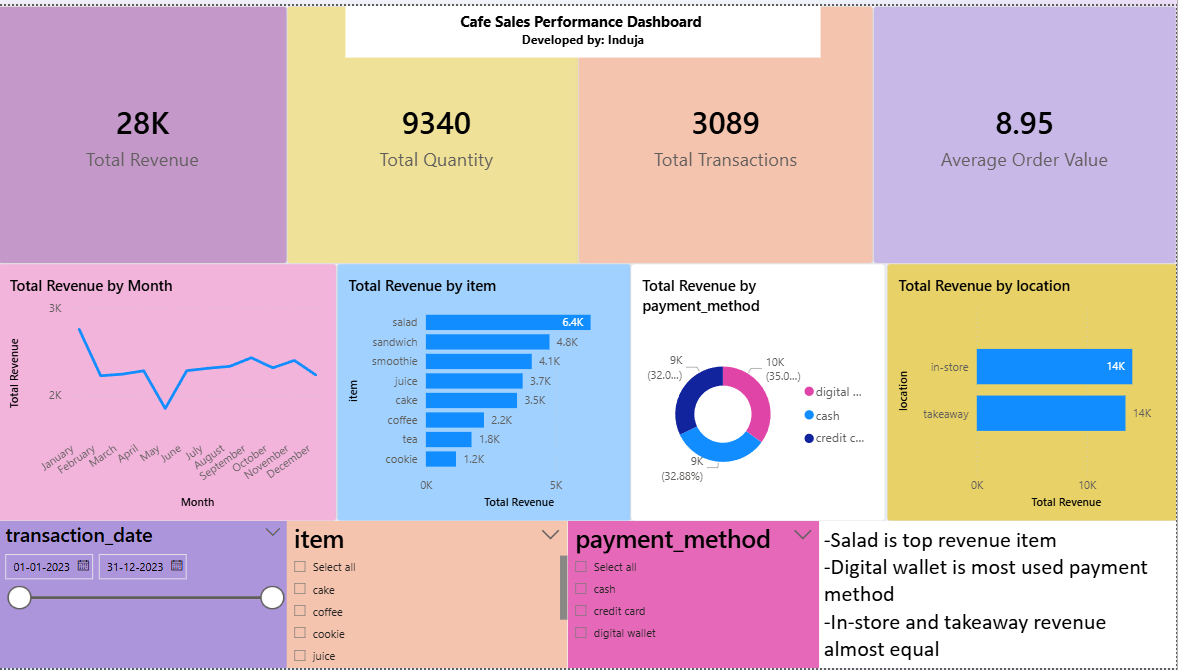

What the dashboard file says about the page in this screenshot:
{"tool":"powerbi","page":{"name":"Page 1","canvas":[1280,720],"ordinal":0},"visuals":[{"type":"card","fields":{"Values":["dirty_cafe_sales.Total Revenue"]},"box":[0,0,314.2,279.9],"z":0},{"type":"card","fields":{"Values":["dirty_cafe_sales.Total Quantity"]},"box":[314.2,0,325.2,279.9],"z":1000},{"type":"card","fields":{"Values":["dirty_cafe_sales.Total Transactions"]},"box":[629.8,0,321.1,279.9],"z":2000},{"type":"card","fields":{"Values":["dirty_cafe_sales.Average Order Value"]},"box":[950.9,0,329.3,279.9],"z":3000},{"type":"lineChart","fields":{"Category":["dirty_cafe_sales.transaction_date.Variation.Date Hierarchy.Month"],"Y":["dirty_cafe_sales.Total Revenue"]},"box":[0,279.9,367.8,279.9],"z":5000},{"type":"barChart","fields":{"Category":["dirty_cafe_sales.item"],"Y":["dirty_cafe_sales.Total Revenue"]},"box":[367.8,279.9,319.7,279.9],"z":5001},{"type":"donutChart","fields":{"Category":["dirty_cafe_sales.payment_method"],"Y":["dirty_cafe_sales.Total Revenue"]},"box":[687.5,279.9,277.2,279.9],"z":5002},{"type":"barChart","fields":{"Category":["dirty_cafe_sales.location"],"Y":["dirty_cafe_sales.Total Revenue"]},"box":[964.7,279.9,315.6,279.9],"z":5003},{"type":"slicer","fields":{"Values":["dirty_cafe_sales.transaction_date"]},"box":[0,559.9,314.2,160.5],"z":5004},{"type":"slicer","fields":{"Values":["dirty_cafe_sales.item"]},"box":[314.2,559.9,304.6,160.5],"z":5005},{"type":"slicer","fields":{"Values":["dirty_cafe_sales.payment_method"]},"box":[618.9,559.9,273.1,160.5],"z":5006},{"type":"textbox","box":[377.4,0,516,56.3],"z":5008},{"type":"textbox","box":[891.9,559.9,388.3,160.5],"z":5009}]}

Visuals, with their boxes in screenshot pixels (x1, y1, x2, y2), scaled from the page's 1280x720 canvas onto the 1179x670 screenshot:
card - dirty_cafe_sales.Total Revenue: 0:0:289:260
card - dirty_cafe_sales.Total Quantity: 289:0:589:260
card - dirty_cafe_sales.Total Transactions: 580:0:876:260
card - dirty_cafe_sales.Average Order Value: 876:0:1178:260
lineChart - dirty_cafe_sales.transaction_date.Variation.Date Hierarchy.Month x dirty_cafe_sales.Total Revenue: 0:260:339:521
barChart - dirty_cafe_sales.item x dirty_cafe_sales.Total Revenue: 339:260:633:521
donutChart - dirty_cafe_sales.payment_method x dirty_cafe_sales.Total Revenue: 633:260:889:521
barChart - dirty_cafe_sales.location x dirty_cafe_sales.Total Revenue: 889:260:1178:521
slicer - dirty_cafe_sales.transaction_date: 0:521:289:669
slicer - dirty_cafe_sales.item: 289:521:570:669
slicer - dirty_cafe_sales.payment_method: 570:521:822:669
textbox: 348:0:823:52
textbox: 822:521:1178:669
